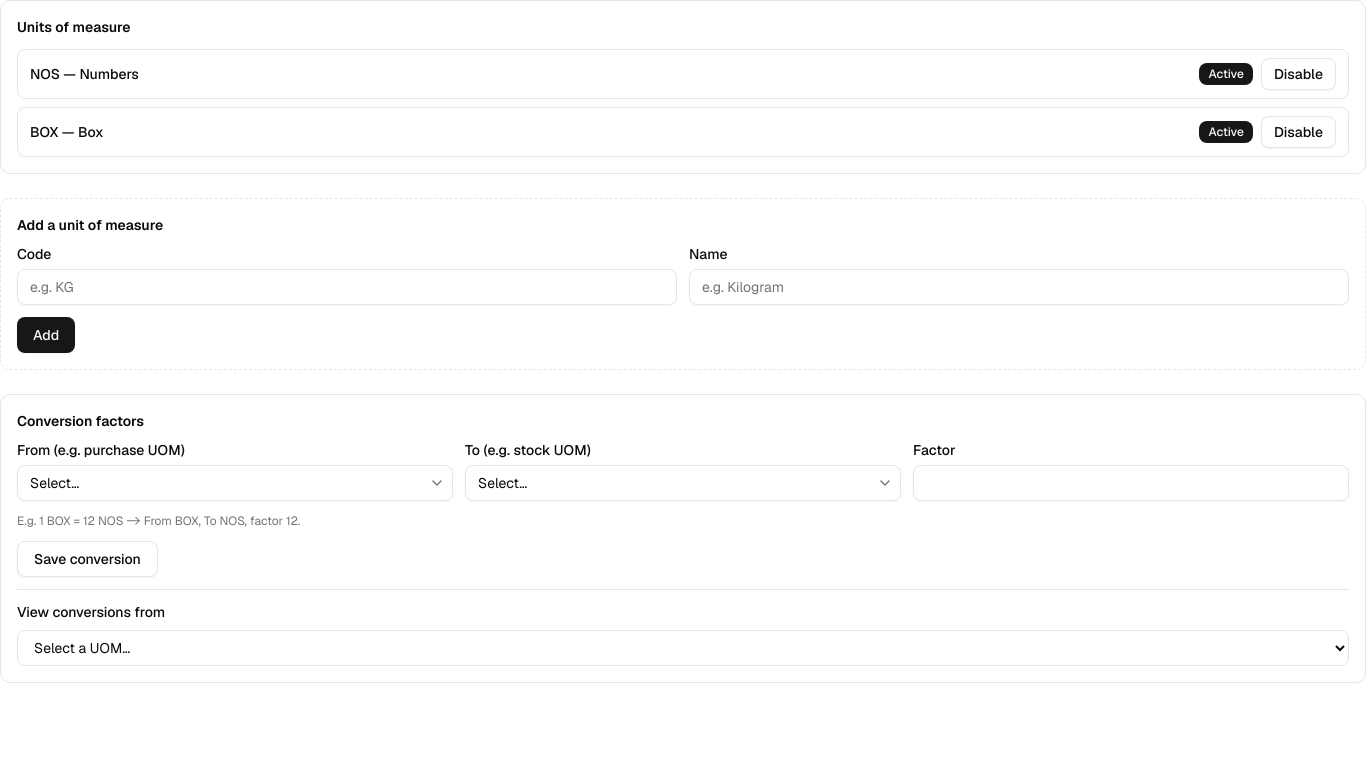
Scenario: UomPanel › shows existing conversions once a viewer UOM is selected
This screenshot has width=1366, height=768.
Select "BOX — Box" in the dropdown labelled "View conversions from": (683, 648) x1=17 y1=630 x2=1349 y2=666
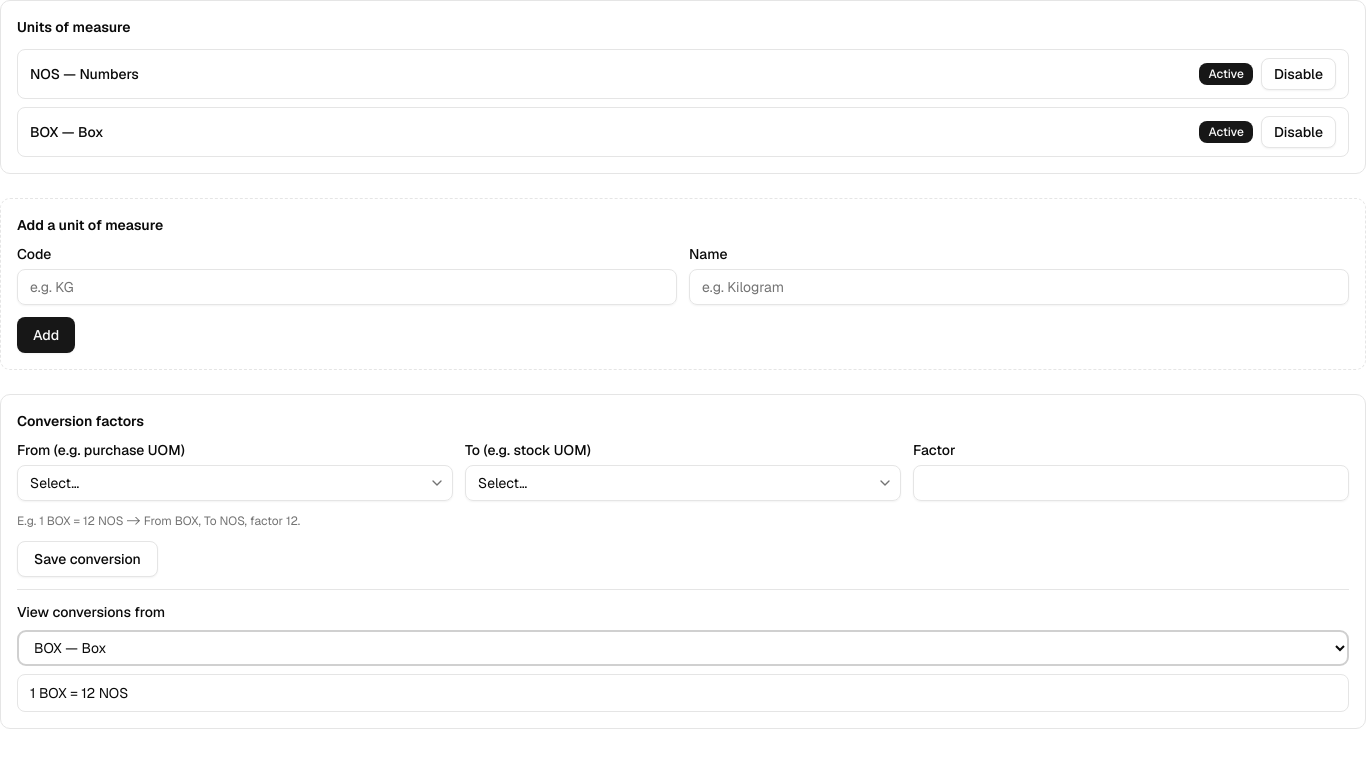
Result: the list item "1 BOX = 12 NOS" is shown at x1=17 y1=674 x2=1349 y2=712
